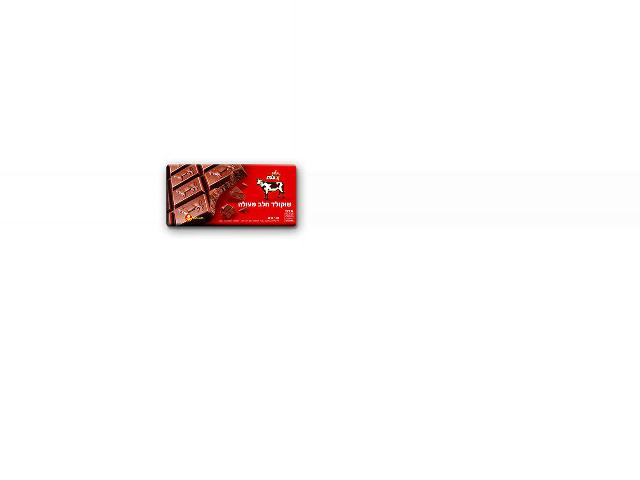chocolate: (163, 161, 300, 231)
